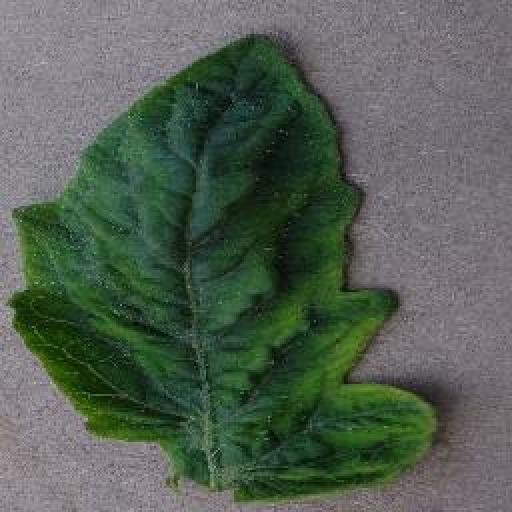disease_tomato: (10, 30, 439, 510)
